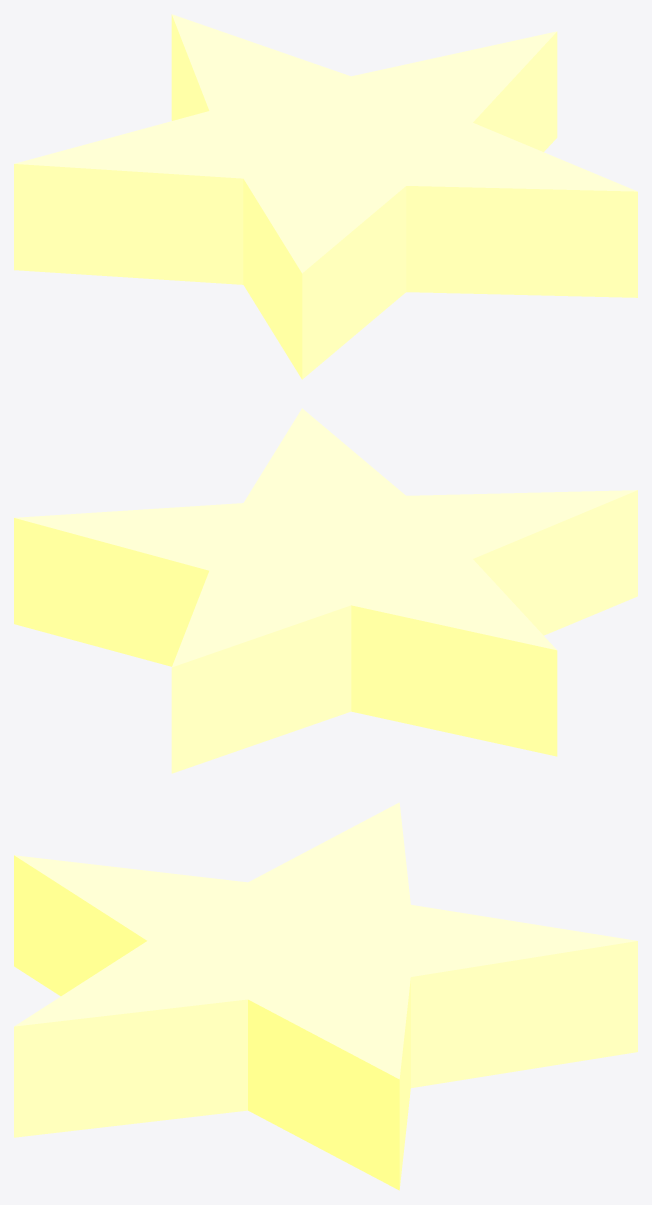
Rendered from star.glb.
The picture shows the model from 3 angles, top to bottom: view 1: azimuth 30°, elevation 25°; view 2: azimuth 150°, elevation 25°; view 3: azimuth 270°, elevation 25°; orthographic projection. The views are drawn at different scales.
Parts seen in each view (by area): view 1: Star; view 2: Star; view 3: Star.
Boxes of the visible parts, x1,y1,x2,y2 form: Star: (14, 14, 637, 379); Star: (14, 408, 637, 773); Star: (14, 802, 637, 1190).
Bounding box in the file's own units: 0.856 × 0.16 × 0.8141.
